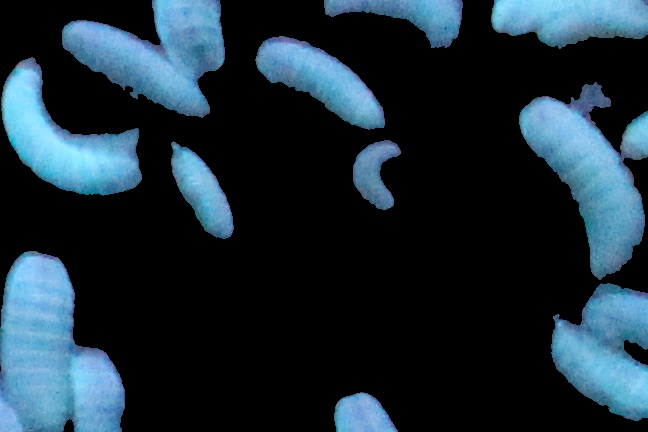larvae: (517, 94, 646, 277), (1, 74, 146, 206), (57, 20, 223, 120), (1, 248, 80, 432), (252, 43, 400, 126), (549, 321, 648, 428), (163, 149, 246, 240), (314, 1, 468, 46), (494, 1, 648, 44), (149, 1, 229, 77), (60, 349, 129, 432), (568, 277, 648, 342), (538, 3, 648, 49), (354, 140, 412, 212), (329, 387, 391, 432), (616, 113, 648, 161)
